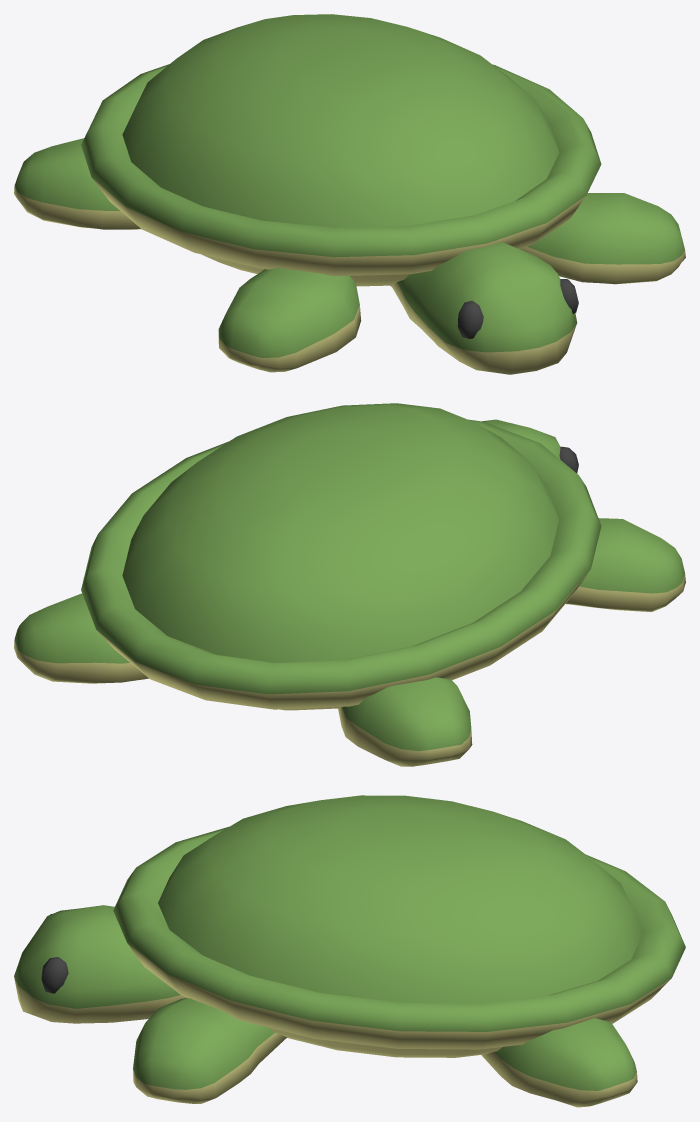
File: Turtle_01.fbx
3 views of the same model, one above another, from view 1: azimuth 30°, elevation 25°; view 2: azimuth 150°, elevation 25°; view 3: azimuth 270°, elevation 25° (orthographic). The views are drawn at different scales.
Visible parts, largest first — view 1: Turtle_01; view 2: Turtle_01; view 3: Turtle_01.
Boxes of the visible parts, <box> form: Turtle_01: <box>14,14,685,374</box>; Turtle_01: <box>14,403,685,766</box>; Turtle_01: <box>14,795,685,1107</box>.
Size of the model in its own units: 0.2971 by 0.122 by 0.3919.
